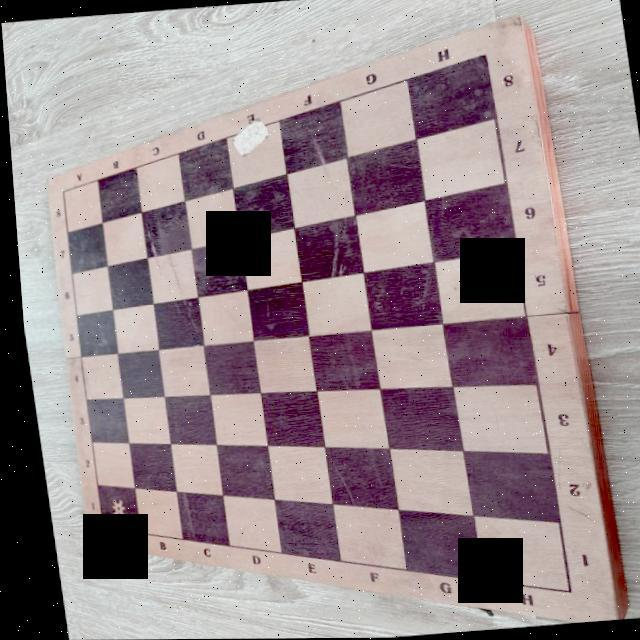chess-table-corners: (545, 582, 573, 602), (472, 45, 494, 63), (50, 183, 70, 196), (86, 520, 103, 534)
